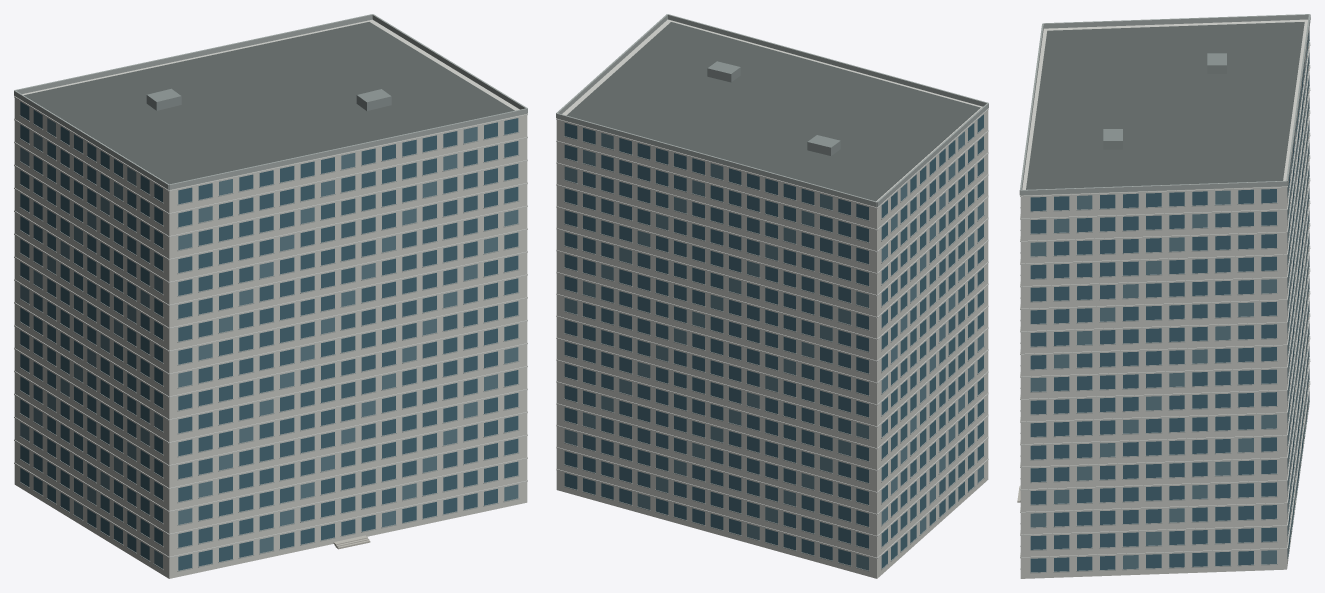
File: 东侧办公园区-029.glb
3 renders of one model, left to right at view 1: azimuth 30°, elevation 25°; view 2: azimuth 150°, elevation 25°; view 3: azimuth 270°, elevation 25°, orthographic. The views are drawn at different scales.
Parts seen in each view (by area): view 1: 东侧办公园区-029; view 2: 东侧办公园区-029; view 3: 东侧办公园区-029.
Boxes of the visible parts, box(x1,y1,x2,y2) form: 东侧办公园区-029: box(14, 14, 527, 578); 东侧办公园区-029: box(556, 14, 988, 578); 东侧办公园区-029: box(1017, 14, 1310, 578).
Size of the model in its own units: 59.25 by 61.42 by 41.54.
